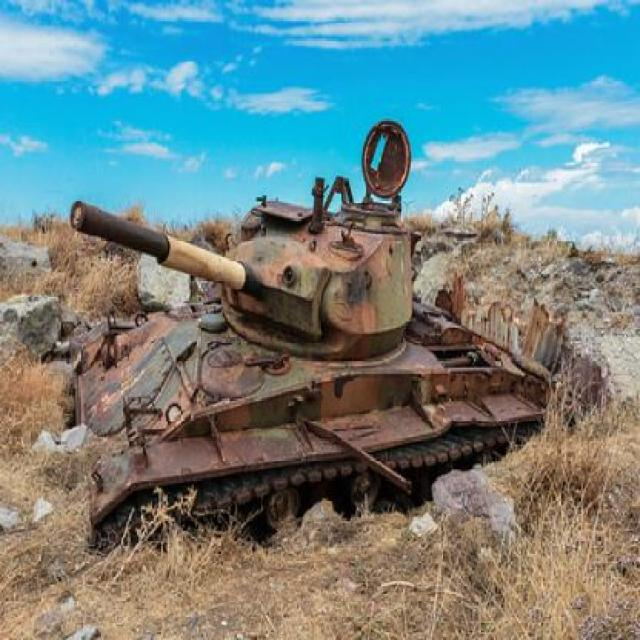corrosion: (67, 111, 555, 551)
